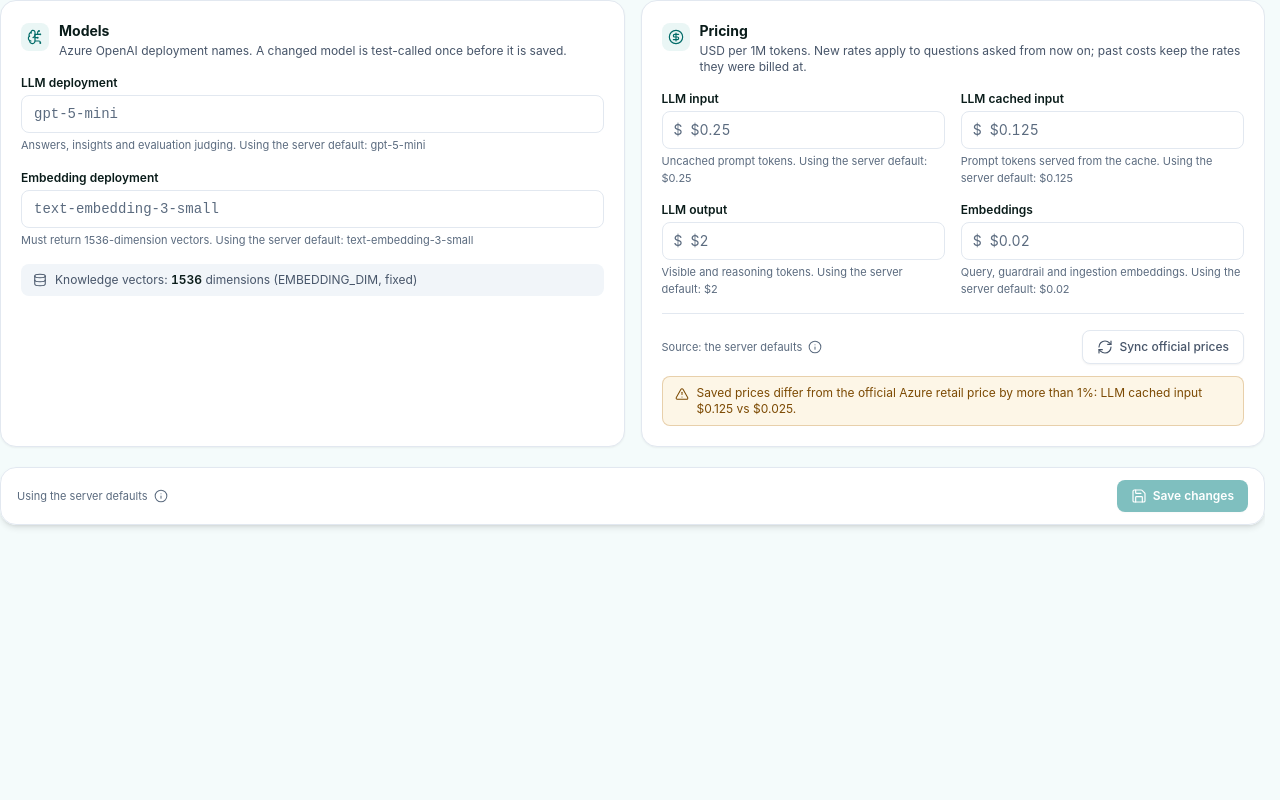
Test: Settings → Sync official prices › previews official prices, then saves them with Azure retail provenance
Click the button "Sync official prices" at (1163, 347), box [1082,330,1244,364]
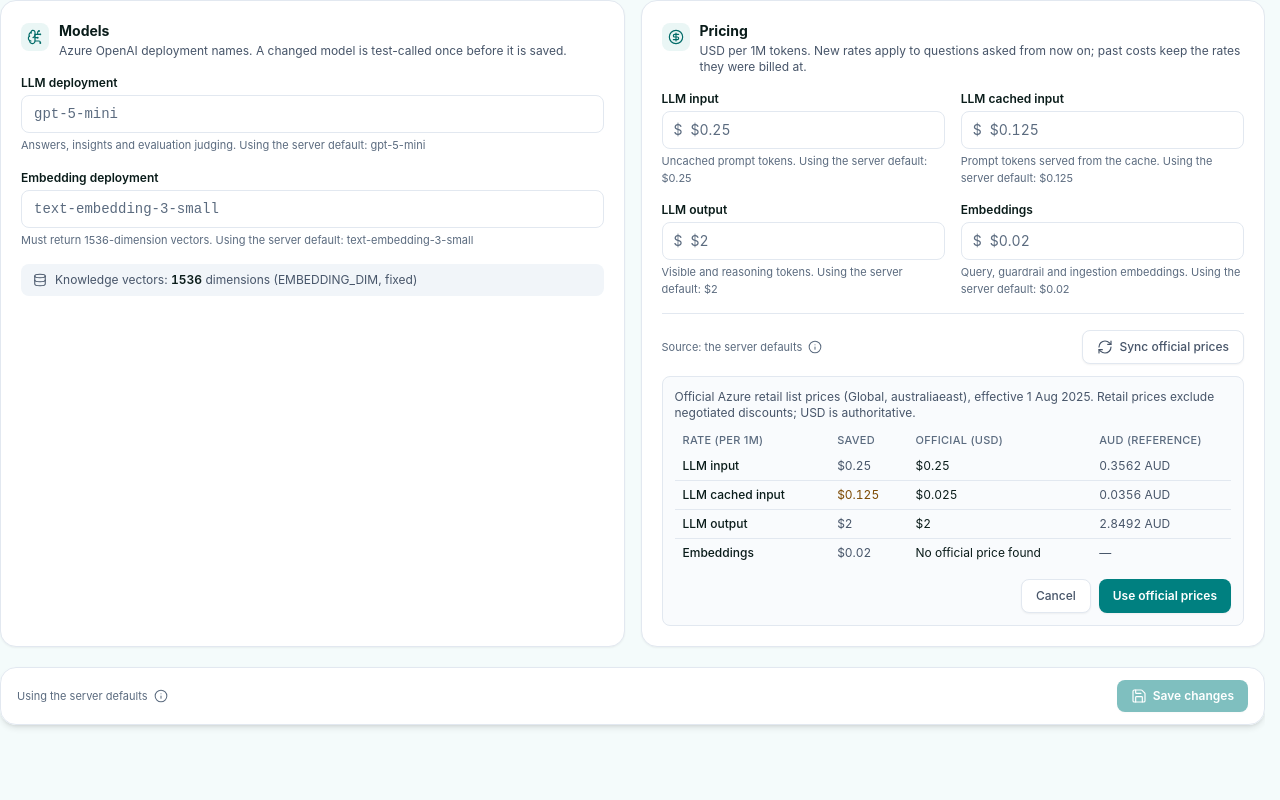
Expected: the text "No official price found" is shown, [908,538,1091,567]
Expected: the text "0.3562 AUD" is shown, [1091,452,1231,480]
Click the button "Use official prices" at (1165, 596), box [1099,579,1231,613]
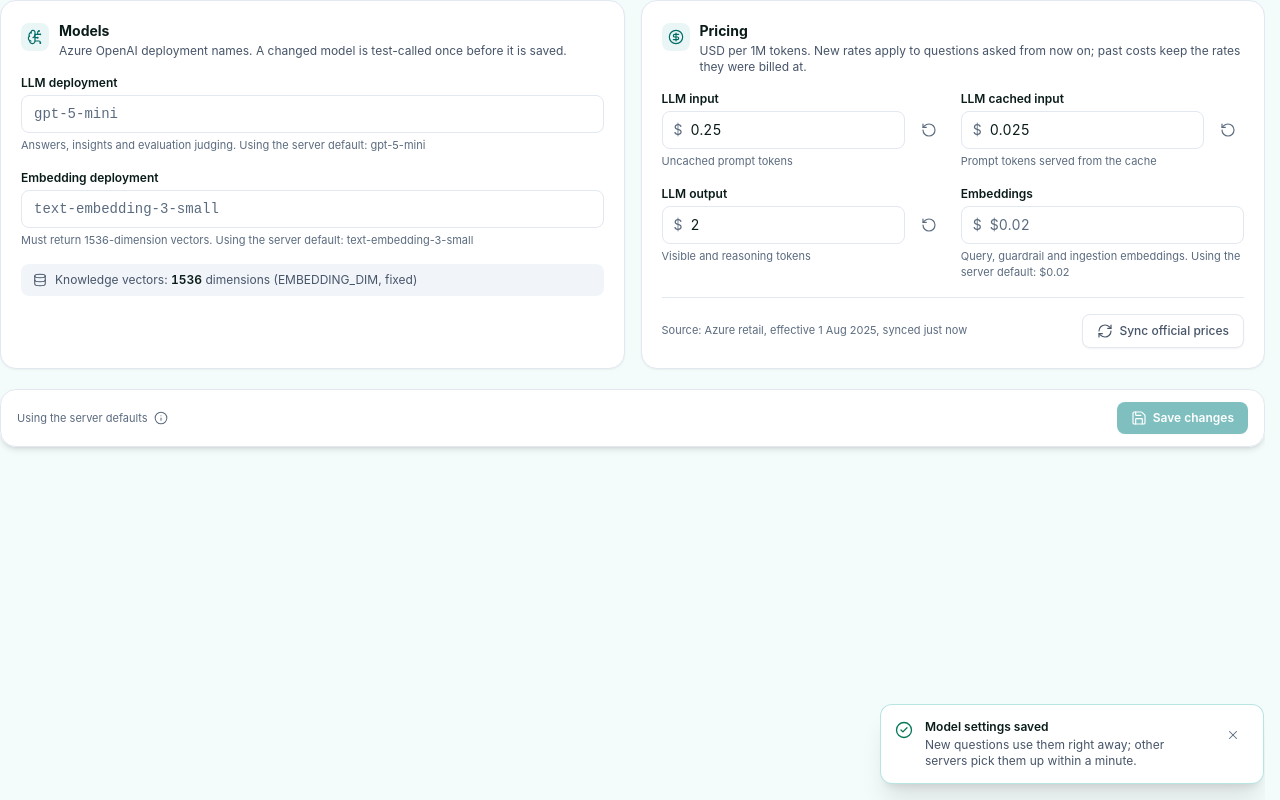
Expected: the text "Source: Azure retail, effective 1 Aug 2025, synced just now" is shown, [662,322,967,339]
